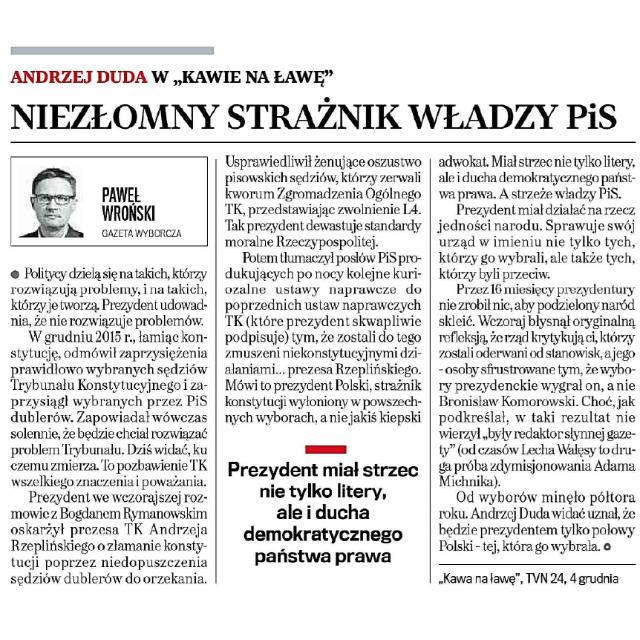author: (94, 178, 176, 224)
body: (434, 147, 640, 558), (4, 258, 212, 588), (220, 150, 426, 428), (224, 435, 422, 577)
title: (8, 64, 624, 134)
